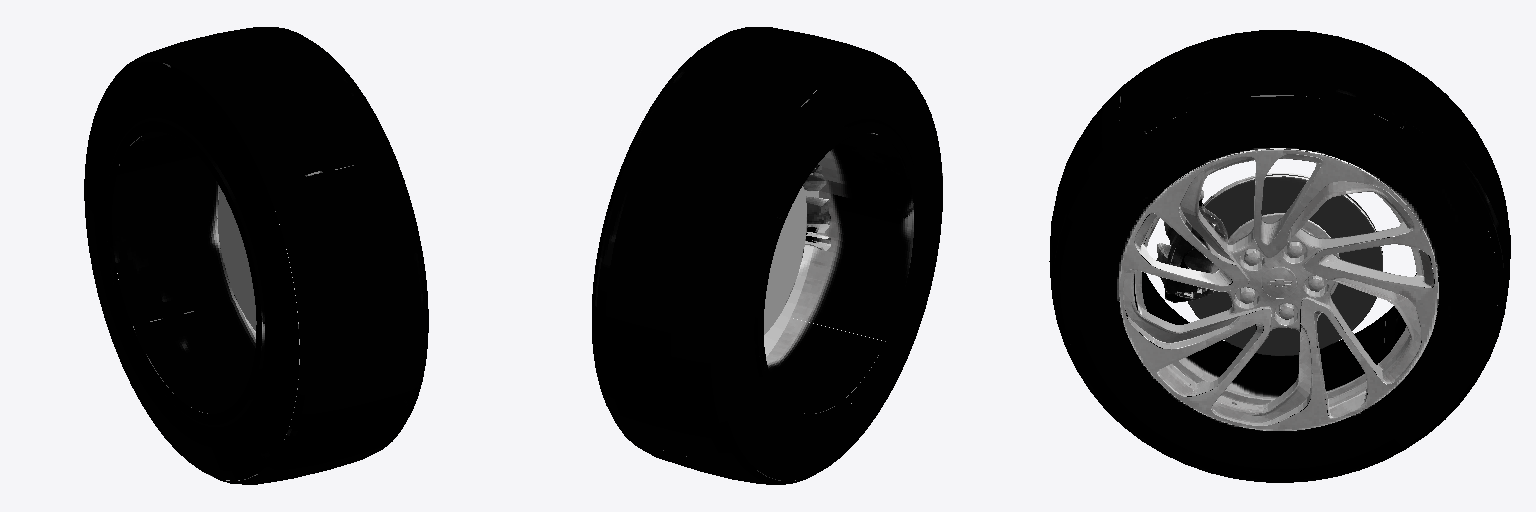
The picture shows the model from 3 angles: view 1: azimuth 30°, elevation 25°; view 2: azimuth 150°, elevation 25°; view 3: azimuth 270°, elevation 25°; orthographic projection.
Visible parts, largest first — view 1: whl.033; view 2: whl.033; view 3: whl.033.
Part boxes in pixels (left/top/right/bottom): whl.033: left=84, top=27, right=428, bottom=484; whl.033: left=592, top=27, right=942, bottom=484; whl.033: left=1049, top=30, right=1510, bottom=482.
Bounding box in the file's own units: 0.2609 × 0.6877 × 0.7083.
Materials: 1 (1 with a texture image).